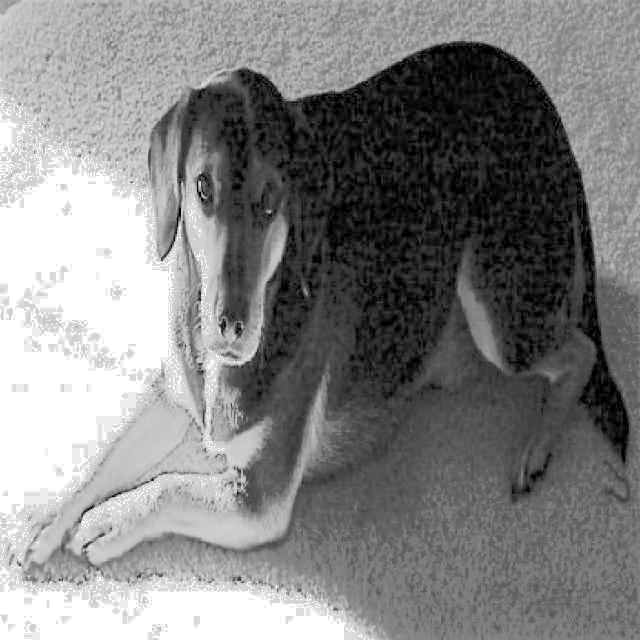Dog: (6, 32, 640, 585)
